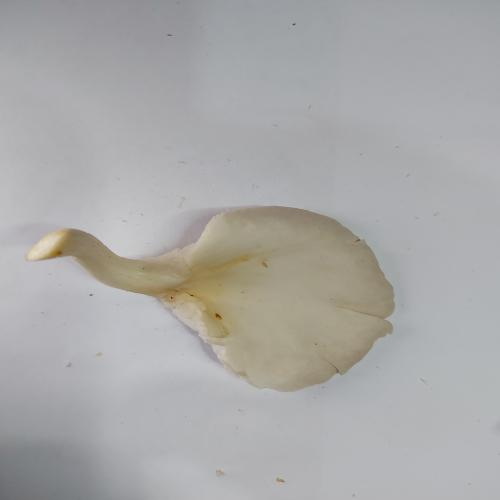Oyster Mushroom: (25, 204, 396, 393)
